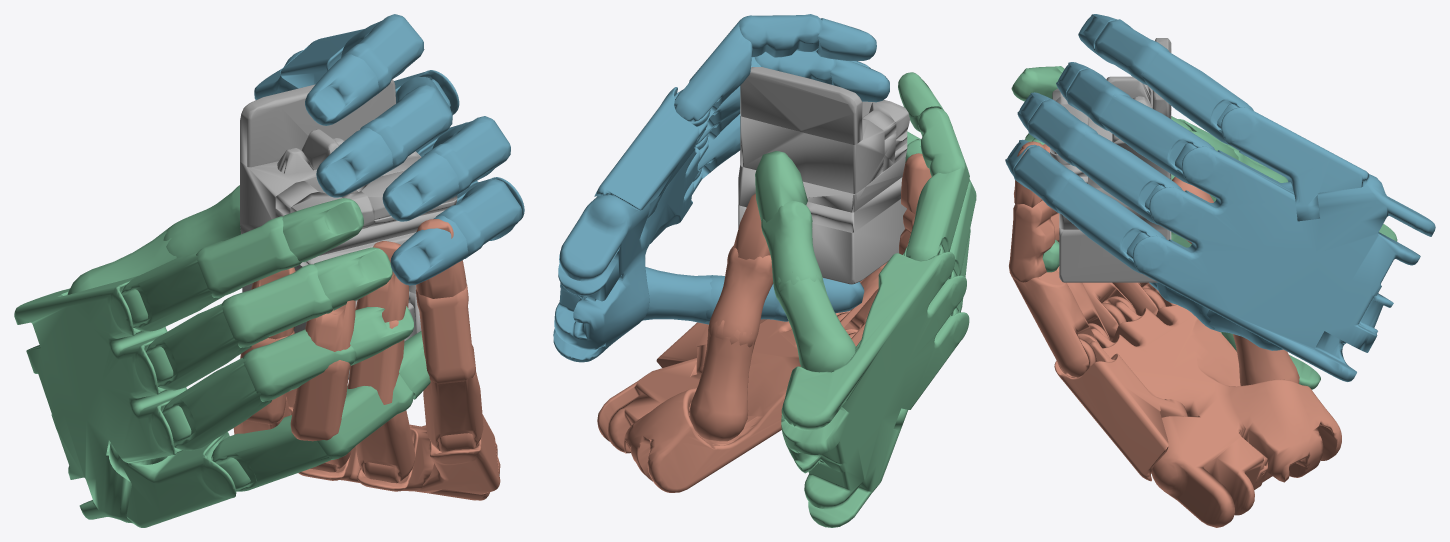
Rendered from mujoco-3D_Dollhouse_Sink_grasp.glb.
3 views of the same model, side by side, from view 1: azimuth 30°, elevation 25°; view 2: azimuth 150°, elevation 25°; view 3: azimuth 270°, elevation 25° (orthographic). The views are drawn at different scales.
Size of the model in its own units: 0.1654 by 0.2074 by 0.1859.
